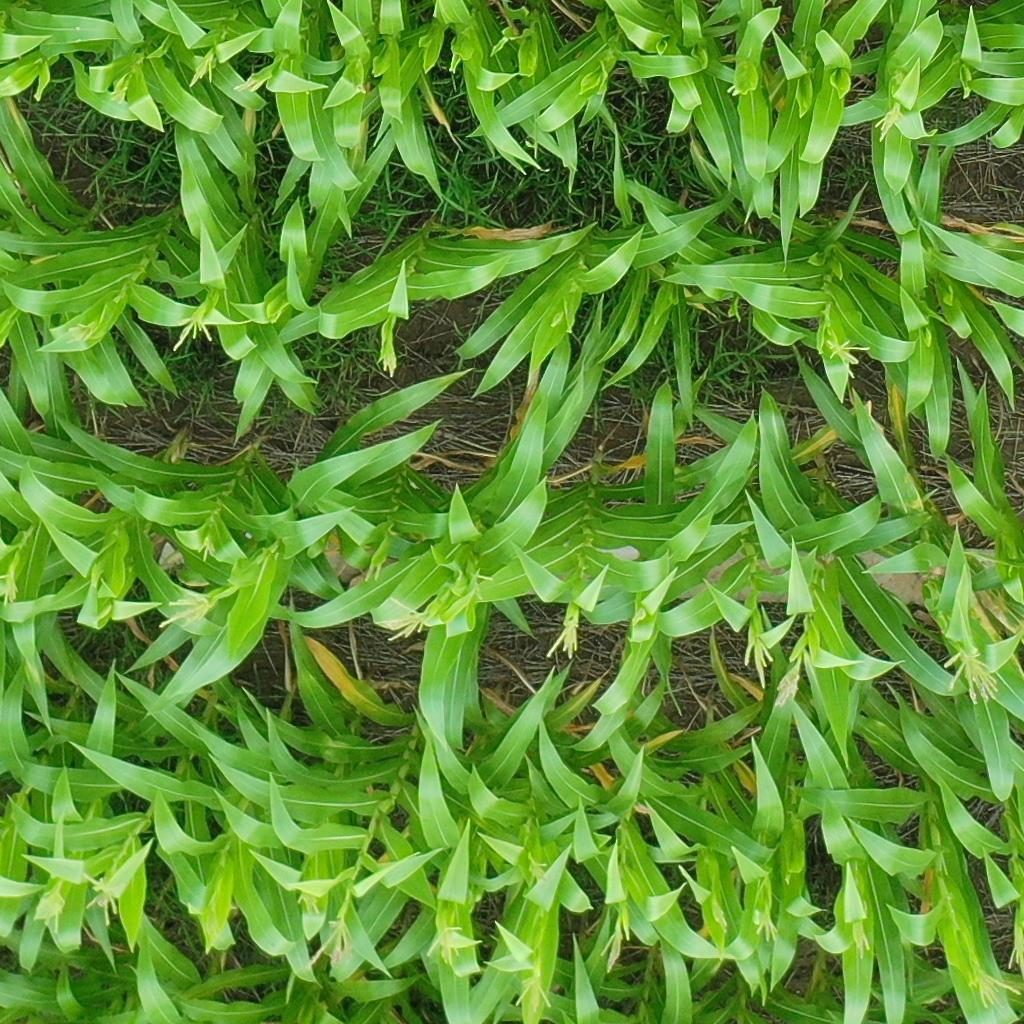Tassel: (944, 647, 998, 707), (377, 595, 433, 643), (304, 916, 353, 969), (83, 872, 121, 927), (825, 336, 871, 381), (969, 969, 1021, 1007), (159, 596, 211, 631), (169, 316, 213, 357), (515, 971, 555, 1012), (745, 638, 775, 690), (426, 924, 463, 965), (37, 886, 66, 934), (547, 622, 581, 660), (775, 662, 803, 708), (873, 103, 902, 142), (185, 50, 214, 88), (200, 891, 222, 937), (754, 910, 781, 945), (851, 920, 873, 962), (468, 570, 493, 601), (1007, 926, 1024, 971), (1, 572, 20, 606), (381, 346, 401, 378), (233, 76, 268, 94), (708, 902, 729, 931), (63, 324, 90, 346), (528, 852, 547, 882), (297, 891, 320, 915), (108, 82, 129, 107), (197, 538, 216, 563), (549, 309, 566, 328), (630, 608, 646, 628), (726, 85, 747, 99)
